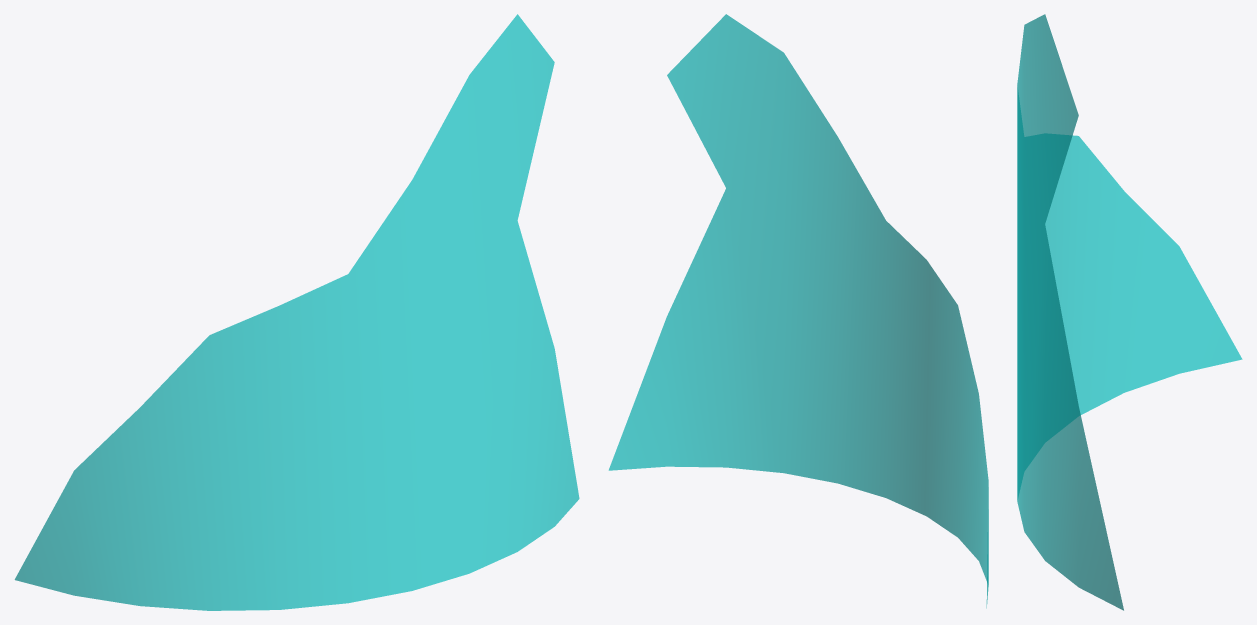
The model's file is firstFrame7.glb.
3 views of the same model, side by side, from view 1: azimuth 30°, elevation 25°; view 2: azimuth 150°, elevation 25°; view 3: azimuth 270°, elevation 25° (orthographic). The views are drawn at different scales.
Visible parts, largest first — view 1: pasted__asdf; view 2: pasted__asdf; view 3: pasted__asdf.
Part boxes in pixels (box(x1,y1,x2,y2)): pasted__asdf: box(14, 14, 579, 610); pasted__asdf: box(608, 14, 988, 608); pasted__asdf: box(1017, 14, 1242, 610).
Bounding box in the file's own units: 0.5122 × 0.5195 × 0.1939.
